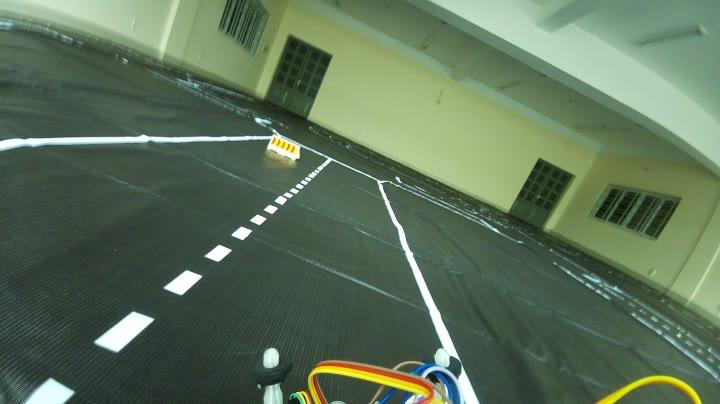roadblock: (266, 130, 302, 168)
